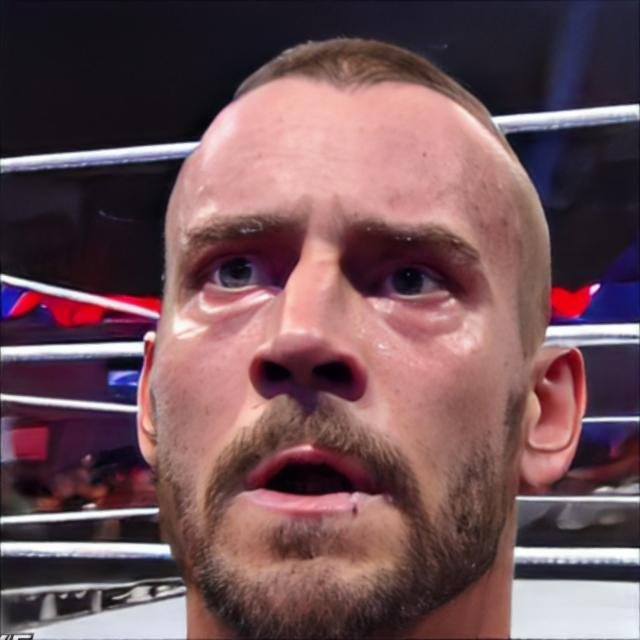fear: (154, 65, 526, 636)
